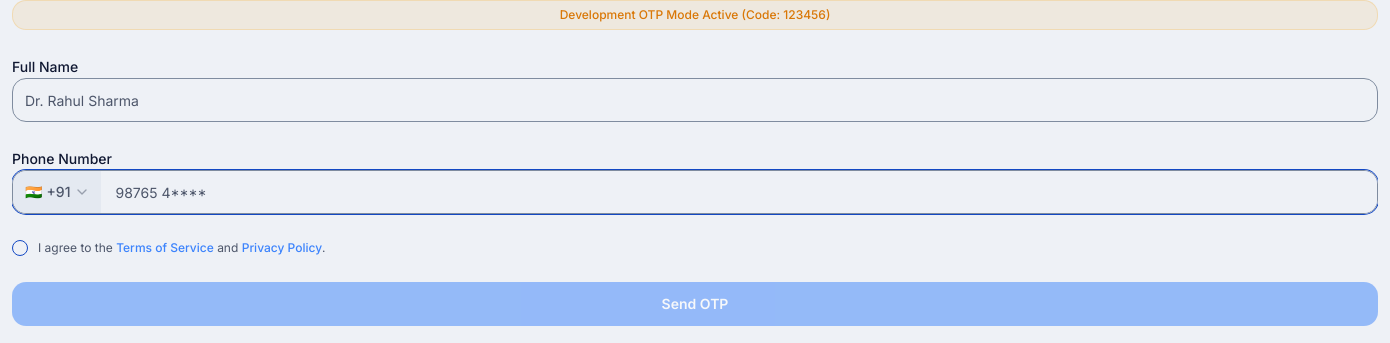
Scenario: PhoneOtpForm - phone entry step › keeps Send OTP disabled until the terms checkbox is checked
Expected: the button "Send OTP" is disabled, [12,282,1378,326]
Click the checkbox named "terms of service" at (20, 248), box [12,240,28,256]
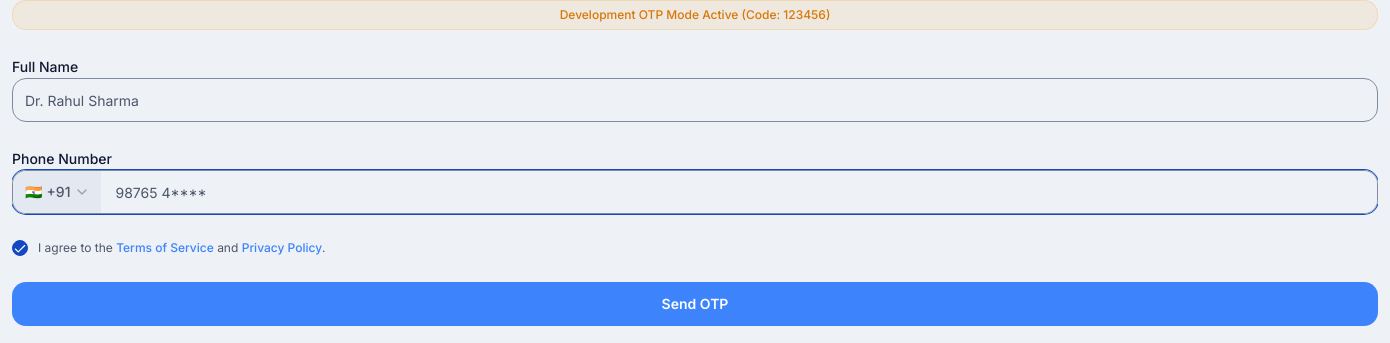
Now the button "Send OTP" is enabled, box [12,282,1378,326]
